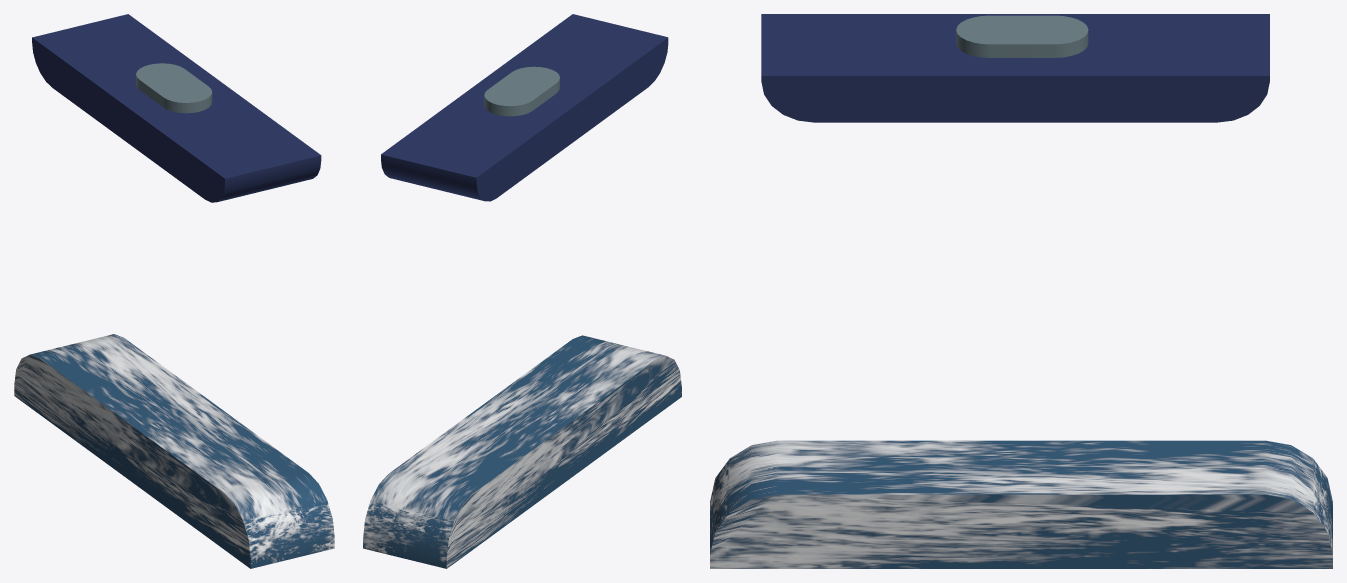
File: cuerpoTanque.obj
3 views of the same model, side by side, from view 1: azimuth 30°, elevation 25°; view 2: azimuth 150°, elevation 25°; view 3: azimuth 270°, elevation 25° (orthographic). The views are drawn at different scales.
Visible parts, largest first — view 1: pCube6, pCube8, pCube9; view 2: pCube6, pCube8, pCube9; view 3: pCube6, pCube8, pCube9.
Part boxes in pixels (bbox=[...]): pCube6: bbox=[14, 334, 334, 568]; pCube8: bbox=[32, 14, 321, 202]; pCube9: bbox=[136, 63, 212, 113]; pCube6: bbox=[363, 335, 681, 568]; pCube8: bbox=[381, 14, 668, 201]; pCube9: bbox=[484, 66, 559, 116]; pCube6: bbox=[710, 440, 1332, 568]; pCube8: bbox=[761, 14, 1269, 122]; pCube9: bbox=[956, 15, 1088, 57].
Bounding box in the file's own units: 0.352 × 1.36 × 1.5.
Materials: 3 (3 with a texture image).
